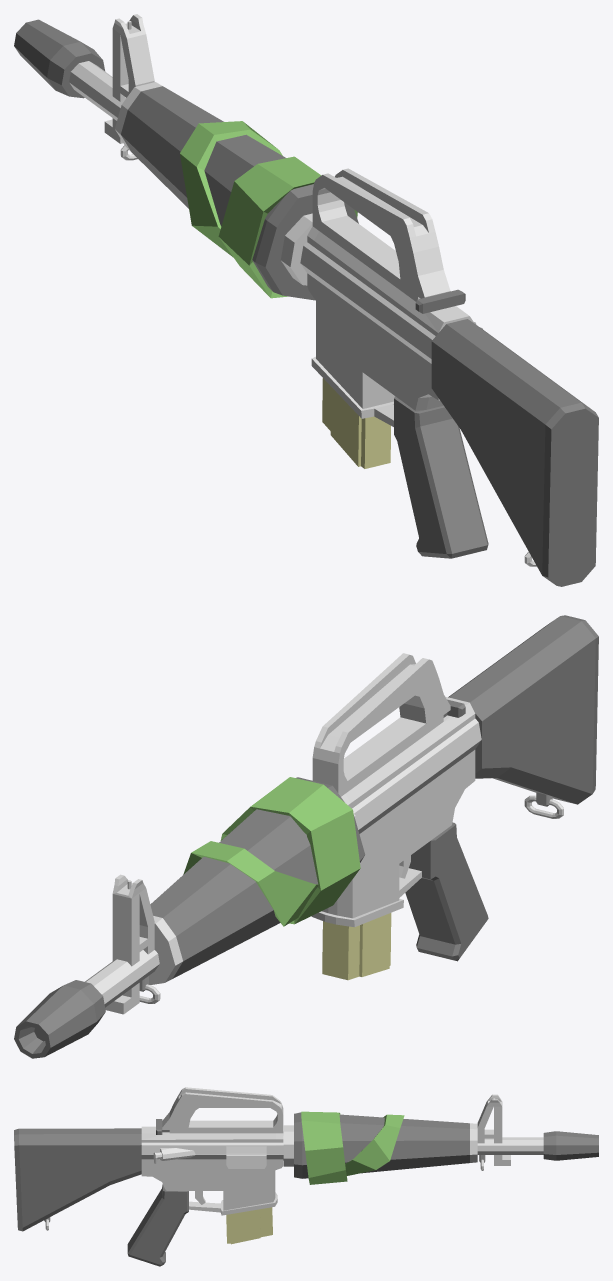
The model's file is m16a1Cartoonish.fbx.
3 views of the same model, one above another, from view 1: azimuth 30°, elevation 25°; view 2: azimuth 150°, elevation 25°; view 3: azimuth 270°, elevation 25° (orthographic). The views are drawn at different scales.
Visible parts, largest first — view 1: M16, Wrap, Magazine, ChargingHandle; view 2: M16, Wrap, Magazine; view 3: M16, Wrap, Magazine.
Part boxes in pixels (x1,y1,x2,y2): M16: (14, 14, 598, 586); Wrap: (180, 121, 357, 298); Magazine: (322, 378, 390, 468); ChargingHandle: (415, 289, 465, 313); M16: (14, 615, 598, 1058); Wrap: (183, 777, 360, 926); Magazine: (322, 913, 391, 980); M16: (14, 1087, 598, 1266); Wrap: (301, 1111, 404, 1184); Magazine: (226, 1207, 272, 1244).
Bounding box in the file's own units: 11.66 × 32.4 × 100.
